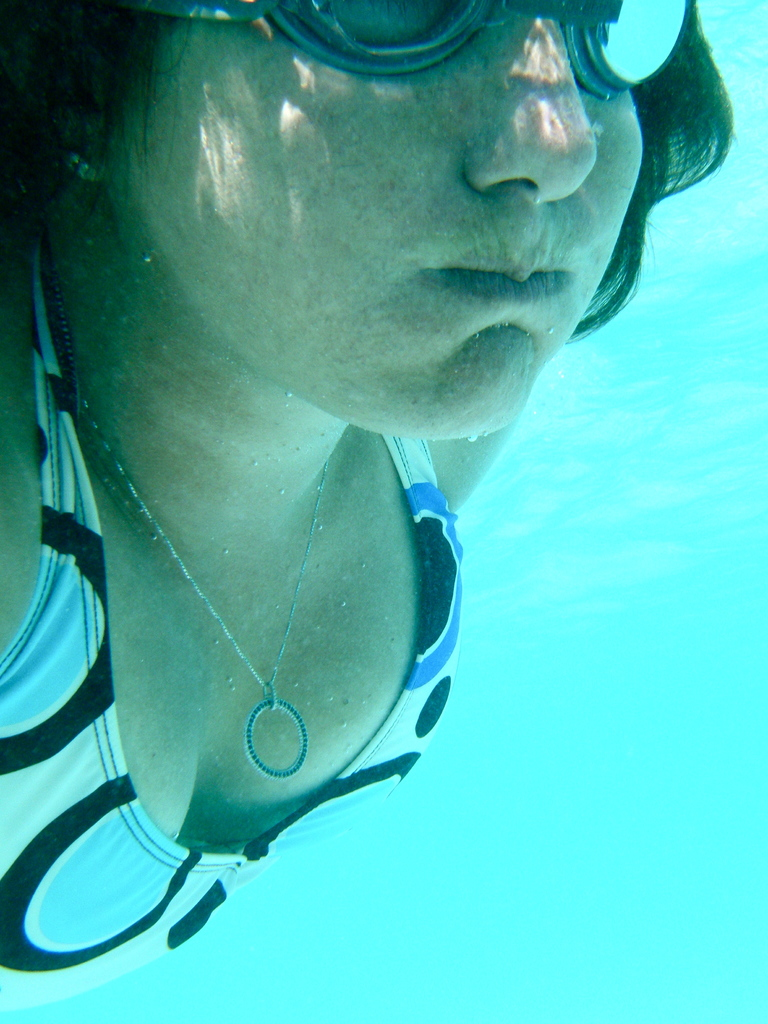Human-face: (94, 0, 692, 440)
